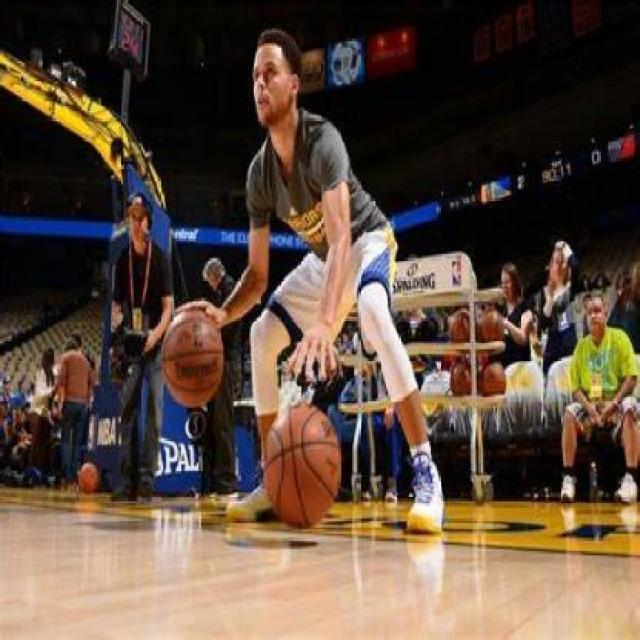basketball: (262, 403, 342, 529), (162, 310, 224, 408)
